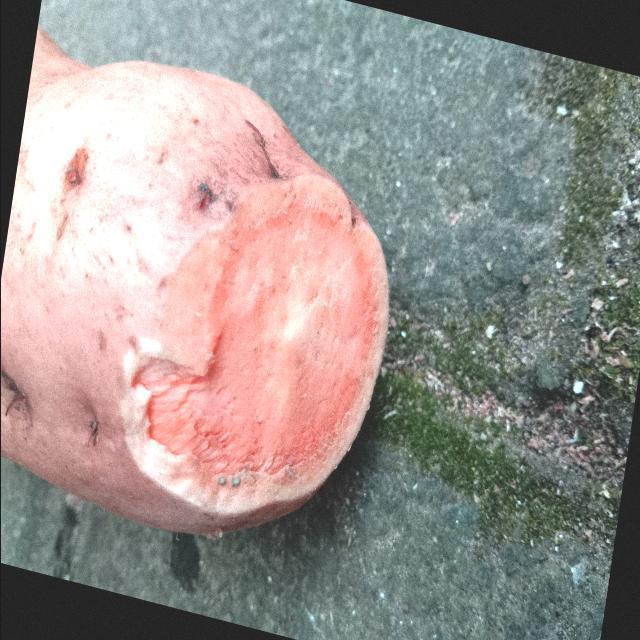Healthy Sweet Potato: (131, 177, 388, 513)
